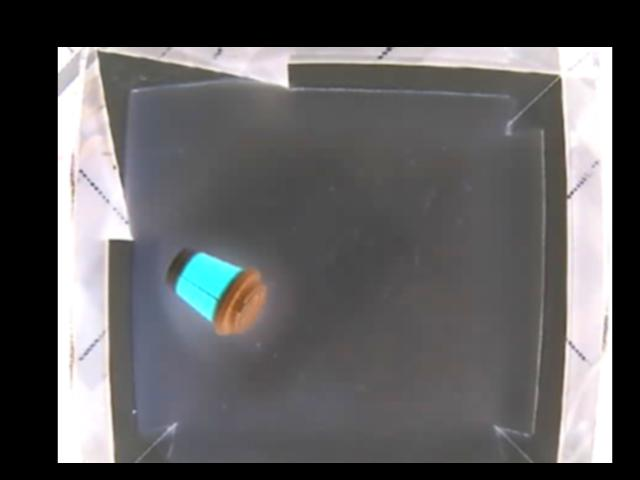Cup: (166, 249, 268, 335)
